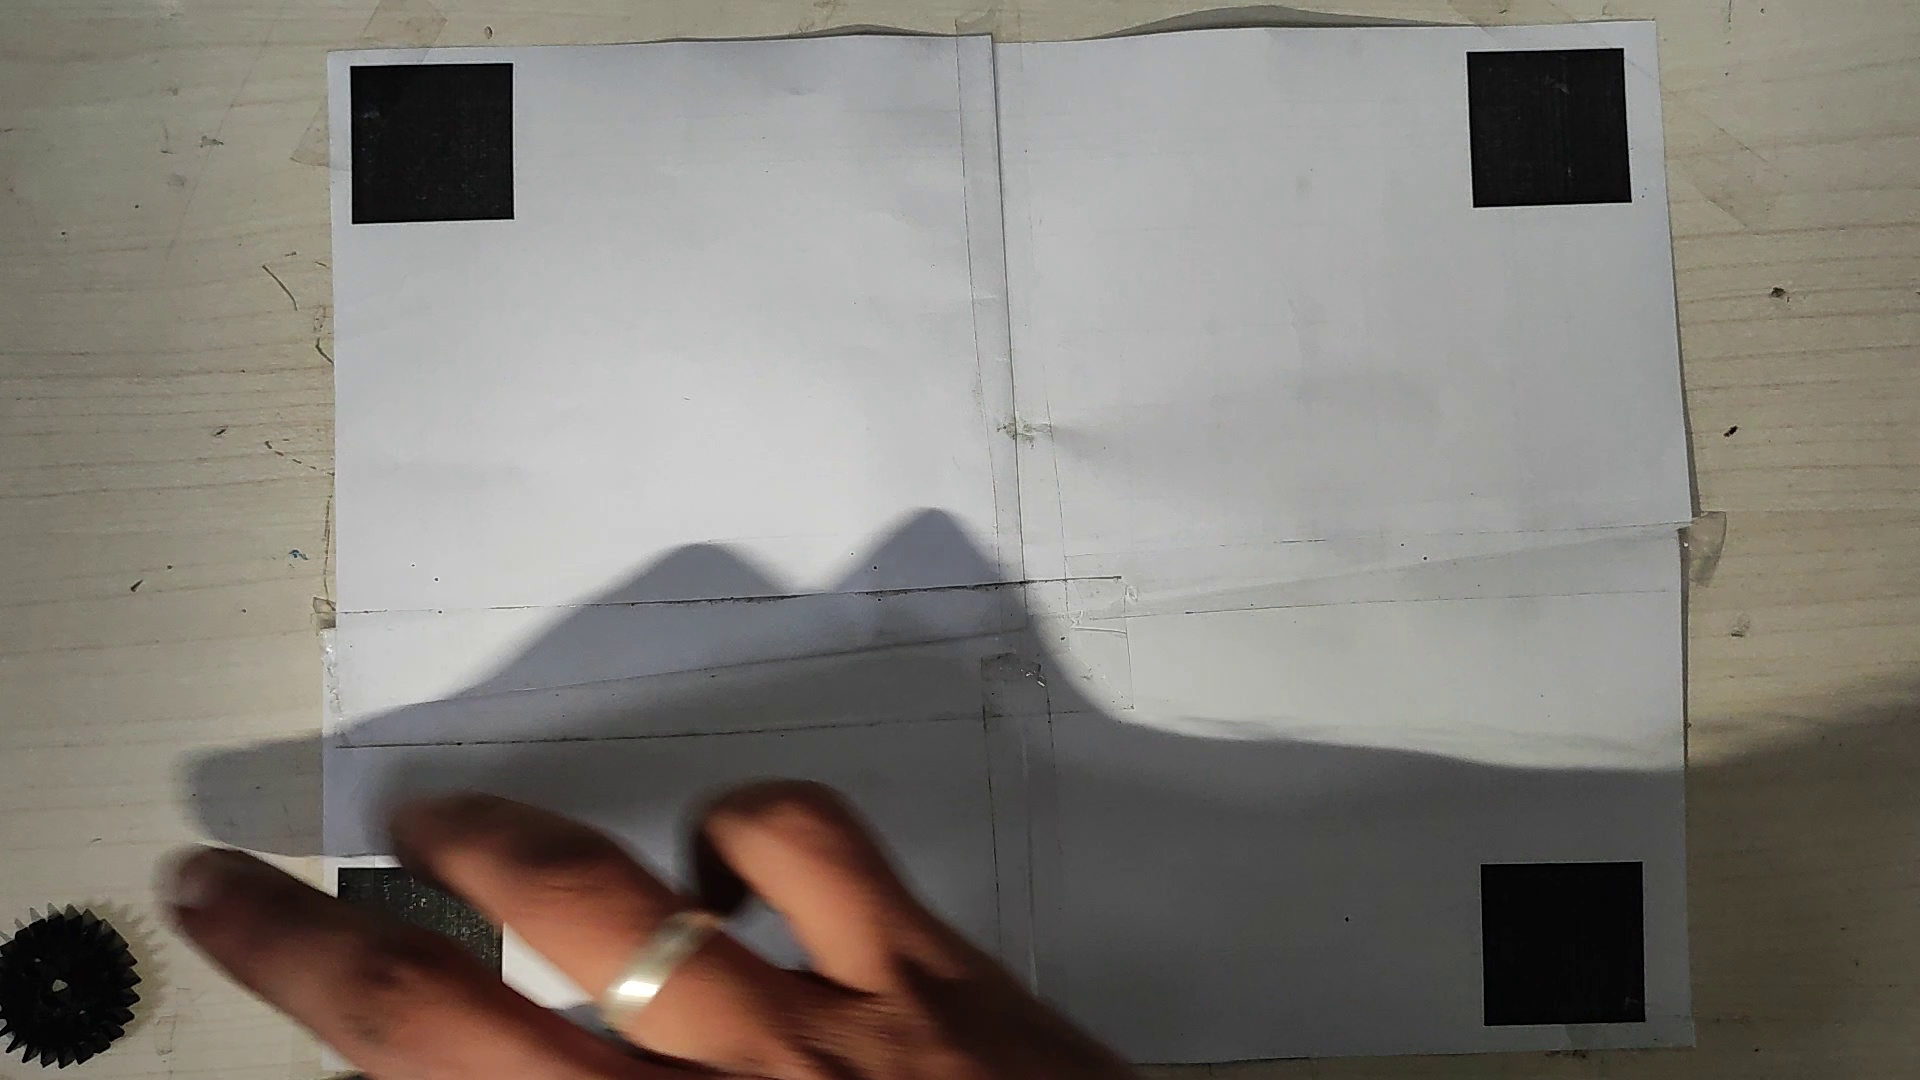Gear: (0, 902, 142, 1067)
